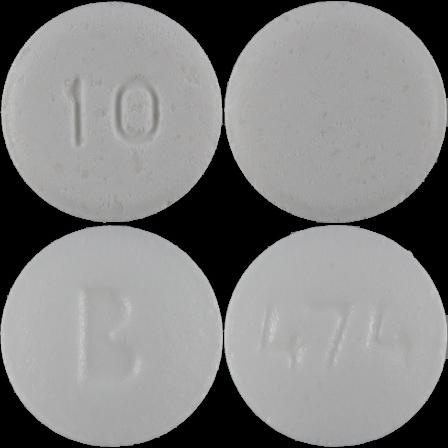51991-363: (0, 0, 224, 224)
